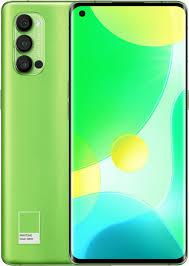Smartphone: (71, 2, 182, 261), (4, 6, 80, 261)
